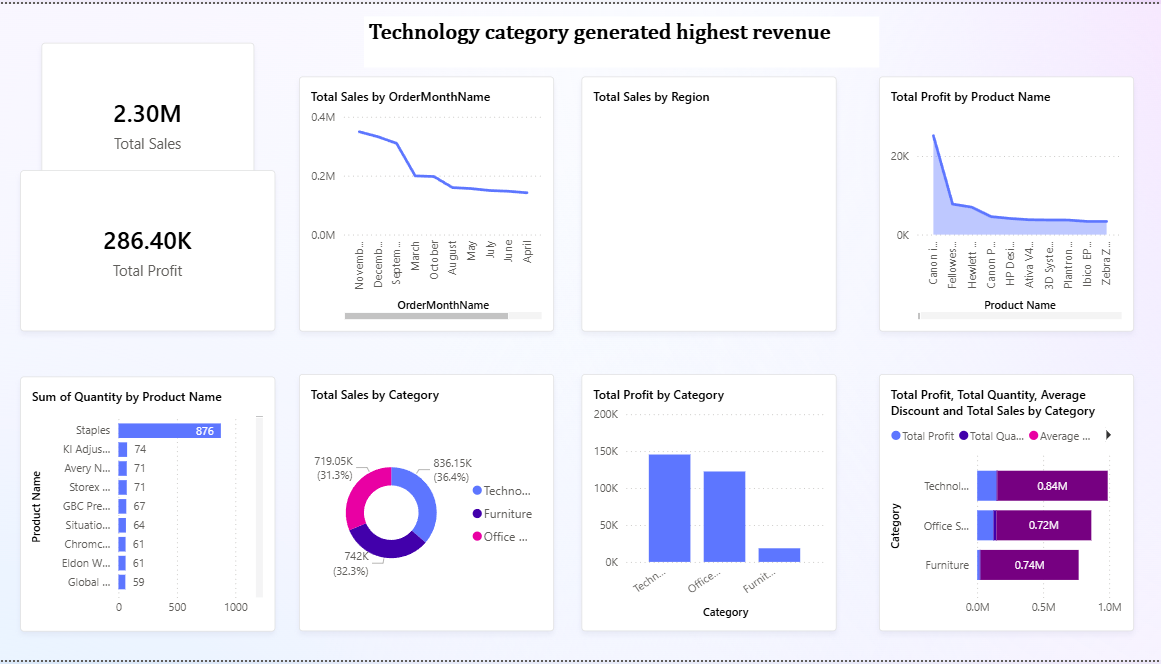

What the dashboard file says about the page in this screenshot:
{"tool":"powerbi","page":{"name":"Page 1","canvas":[1280,720],"ordinal":0},"visuals":[{"type":"lineChart","fields":{"Category":["Orders.OrderMonthName"],"Y":["Orders.Total Sales"]},"box":[329.3,79.6,279.9,279.9],"z":0},{"type":"clusteredBarChart","fields":{"Category":["Orders.Product Name"],"Y":["Sum(Orders.Quantity)"]},"box":[23.3,408.9,279.9,279.9],"z":1000},{"type":"donutChart","fields":{"Category":["Orders.Category"],"Y":["Orders.Total Sales"]},"box":[329.3,406.2,279.9,282.7],"z":2000},{"type":"card","fields":{"Values":["Orders.Total Sales"]},"box":[46.7,42.5,233.3,177],"z":3000},{"type":"card","fields":{"Values":["Orders.Total Profit"]},"box":[23.3,182.5,279.9,177],"z":4000},{"type":"filledMap","fields":{"Category":["Orders.Region"],"X":["Orders.Total Sales"]},"box":[639.5,79.6,279.9,279.9],"z":5000},{"type":"columnChart","fields":{"Category":["Orders.Category"],"Y":["Orders.Total Profit"]},"box":[639.5,406.2,279.9,282.7],"z":6000},{"type":"stackedAreaChart","fields":{"Category":["Orders.Product Name"],"Y":["Orders.Total Profit"]},"box":[966,79.6,279.9,279.9],"z":7000},{"type":"barChart","fields":{"Category":["Orders.Category"],"Y":["Orders.Total Profit","Orders.Total Quantity","Orders.Average Discount","Orders.Total Sales"]},"box":[966,406.2,279.9,282.7],"z":8000},{"type":"textbox","box":[400.7,13.7,565.4,56.3],"z":9000}]}

Visuals, with their boxes in screenshot pixels (x1, y1, x2, y2), scaled from the page's 1280x720 canvas onto the 1161x664 screenshot:
lineChart - Orders.OrderMonthName x Orders.Total Sales: BBox(299, 73, 553, 332)
clusteredBarChart - Orders.Product Name x Sum(Orders.Quantity): BBox(21, 377, 275, 635)
donutChart - Orders.Category x Orders.Total Sales: BBox(299, 375, 553, 635)
card - Orders.Total Sales: BBox(42, 39, 254, 202)
card - Orders.Total Profit: BBox(21, 168, 275, 332)
filledMap - Orders.Region x Orders.Total Sales: BBox(580, 73, 834, 332)
columnChart - Orders.Category x Orders.Total Profit: BBox(580, 375, 834, 635)
stackedAreaChart - Orders.Product Name x Orders.Total Profit: BBox(876, 73, 1130, 332)
barChart - Orders.Category x Orders.Total Profit: BBox(876, 375, 1130, 635)
textbox: BBox(363, 13, 876, 65)
